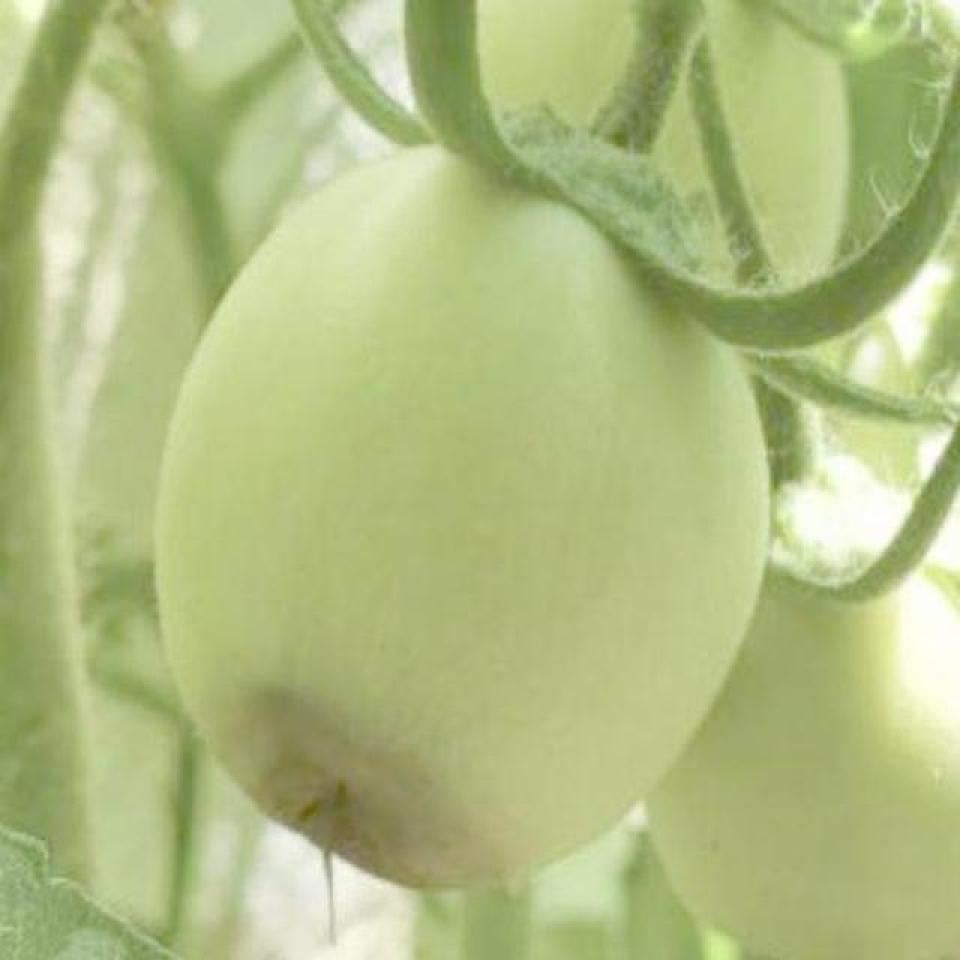Blossom_end_rot: (183, 627, 534, 933)
